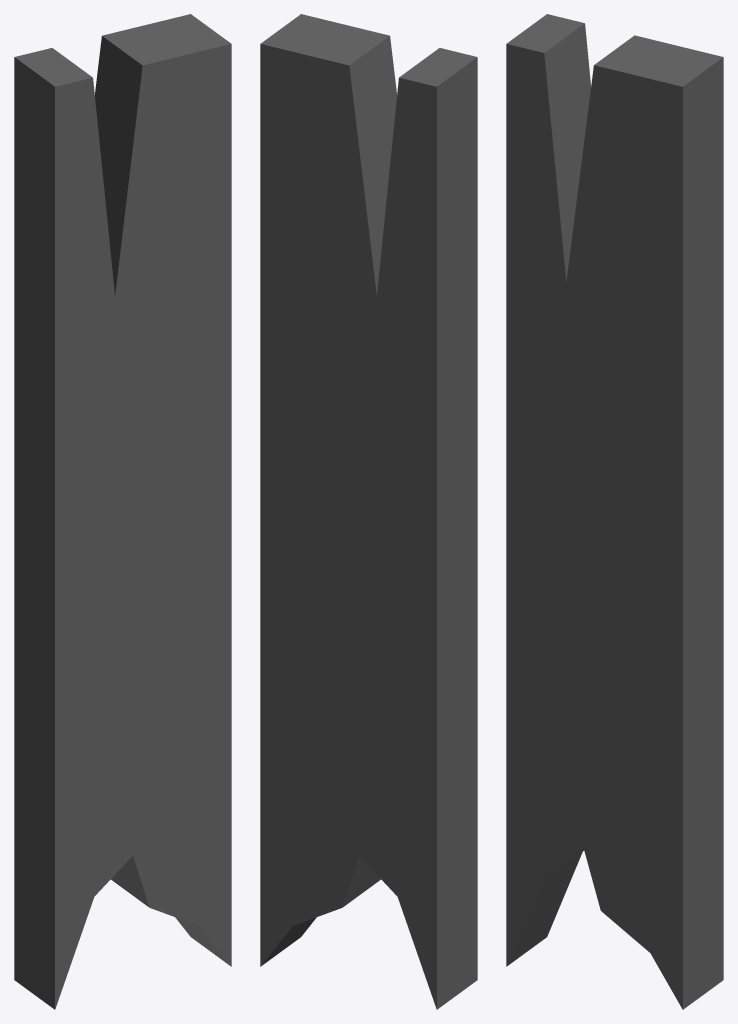
Rendered from SM_Plank-Door.fbx.
3 views of the same model, side by side, from view 1: azimuth 30°, elevation 25°; view 2: azimuth 150°, elevation 25°; view 3: azimuth 330°, elevation 25° (orthographic).
Visible parts, largest first — view 1: Plank; view 2: Plank; view 3: Plank.
Part boxes in pixels (x1,y1,x2,y2): Plank: (14, 14, 231, 1009); Plank: (260, 14, 477, 1009); Plank: (506, 14, 723, 1009).
Size of the model in its own units: 50 by 250 by 20.
